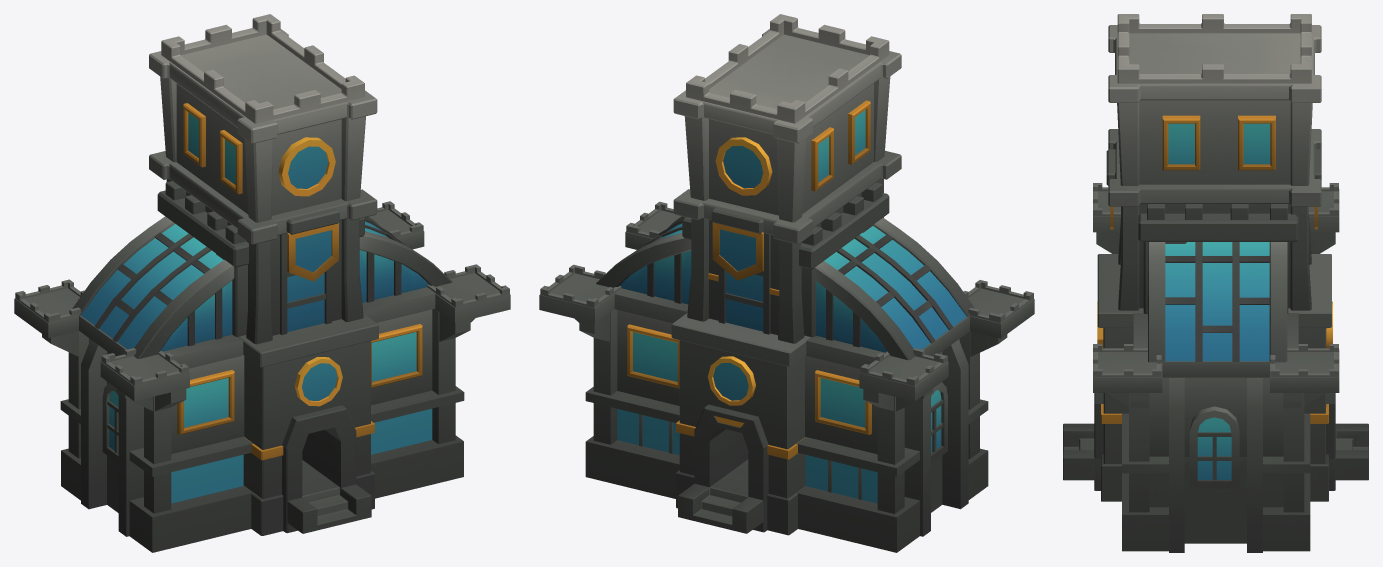
Rendered from present_centre_building.fbx.
The picture shows the model from 3 angles, left to right: view 1: azimuth 30°, elevation 25°; view 2: azimuth 150°, elevation 25°; view 3: azimuth 270°, elevation 25°; orthographic projection. The views are drawn at different scales.
Visible parts, largest first — view 1: present_centre_building; view 2: present_centre_building; view 3: present_centre_building.
Part boxes in pixels (bbox=[...]): present_centre_building: bbox=[14, 14, 510, 552]; present_centre_building: bbox=[539, 14, 1034, 552]; present_centre_building: bbox=[1063, 14, 1368, 552].
Bounding box in the file's own units: 202 × 216 × 138.
Materials: 2 (2 with a texture image).
